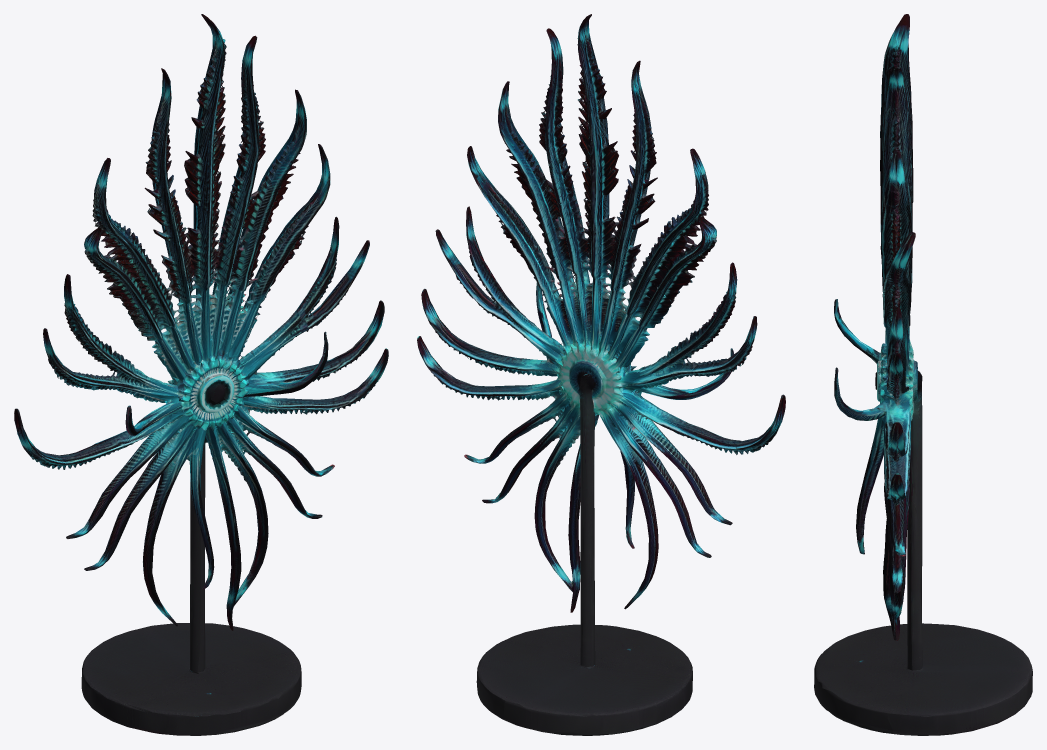
Rendered from bloom_feather_star.glb.
3 renders of one model, left to right at view 1: azimuth 30°, elevation 25°; view 2: azimuth 150°, elevation 25°; view 3: azimuth 270°, elevation 25°, orthographic.
Bounding box in the file's own units: 1.08 × 1.9 × 0.5549.
1 material, 1 textured.
